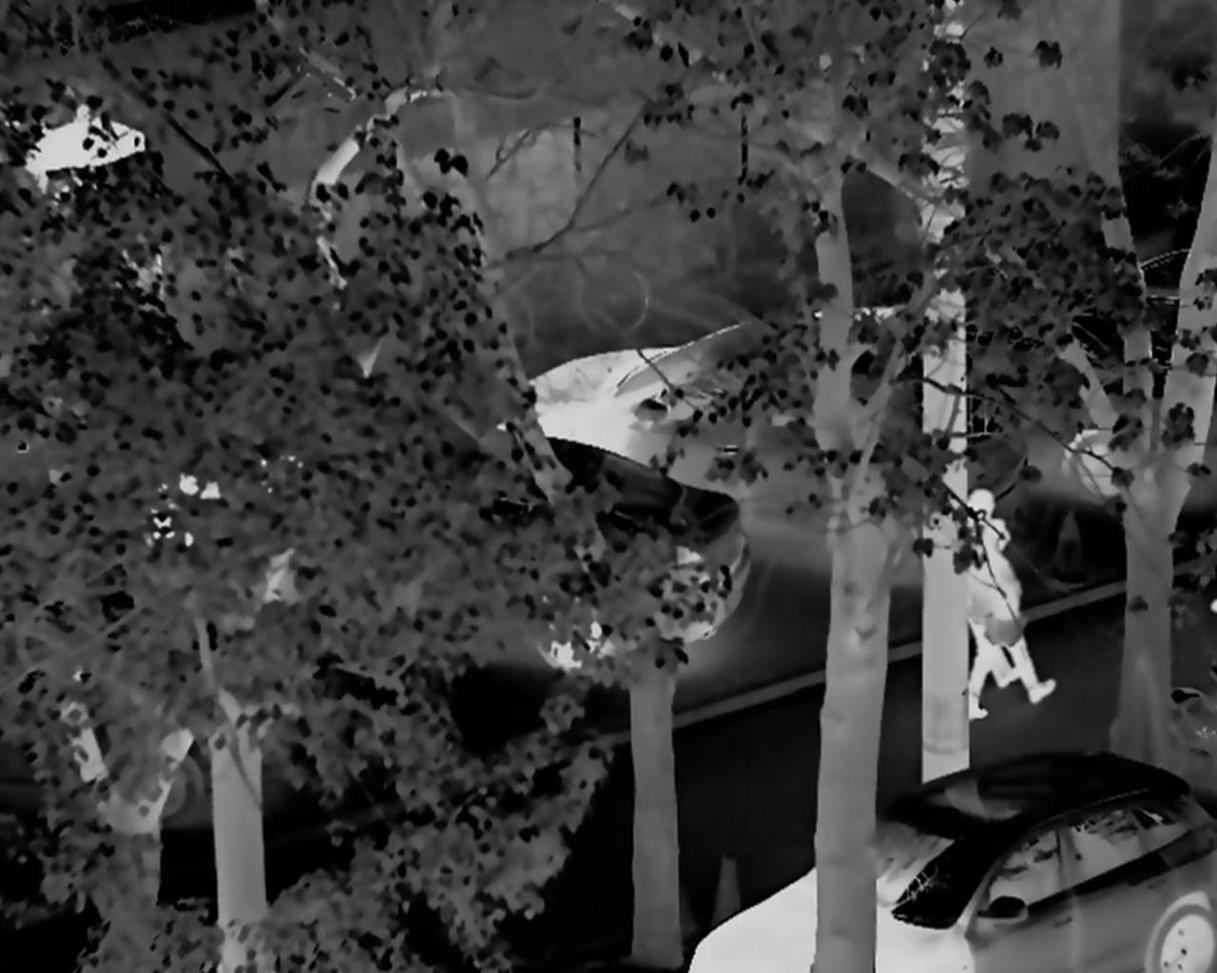person: (975, 512, 1060, 728), (961, 492, 1018, 699)
